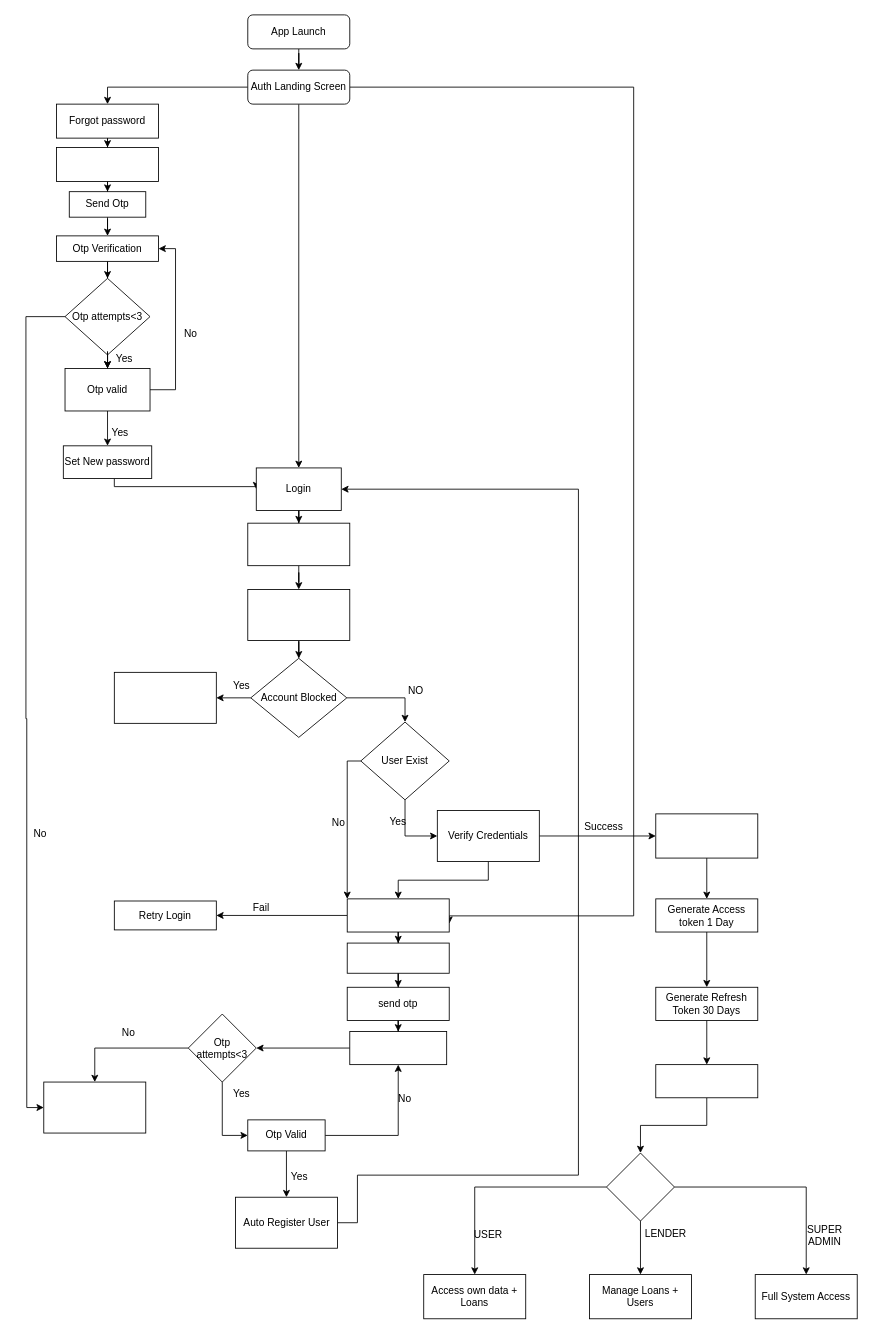
Some shapes in this 872 by 1334 pixel diagram are drawn without their labels. The shapes that lost their labels are listed below. From the top down, each one's centre as x and y in pixels, then its label:
the point at 107,164: Enter mobile
the point at 298,544: Enter Mobile Number/Otp
the point at 298,614: Input Validation
the point at 164,697: Show Block message
the point at 706,835: Create Success Record
the point at 397,915: Signup
the point at 397,957: Enter User Details
the point at 398,1048: Verify Otp
the point at 706,1081: Login Success DashBoard
the point at 94,1107: Account Blocked 24 hours
the point at 640,1186: User Role
